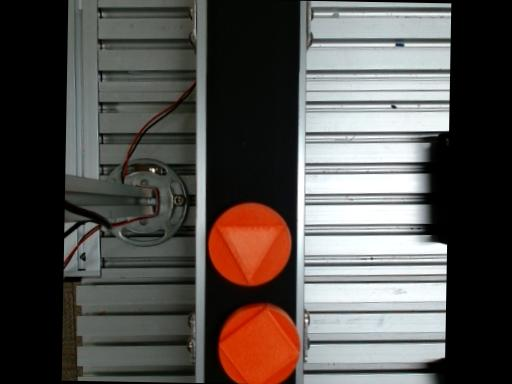Not_Square: (213, 224, 282, 285)
Orange_Waper: (208, 203, 290, 286), (218, 303, 299, 384)
Square: (217, 309, 300, 384)
